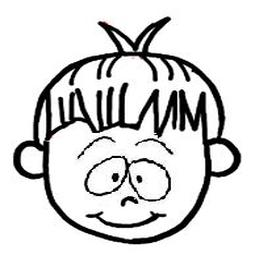ear: (201, 136, 244, 177), (9, 141, 45, 182)
eye: (75, 151, 129, 197), (127, 159, 172, 203)
eyebrow: (73, 132, 113, 163), (130, 136, 176, 154)
mouth: (85, 207, 172, 230)
nose: (115, 196, 142, 211)
